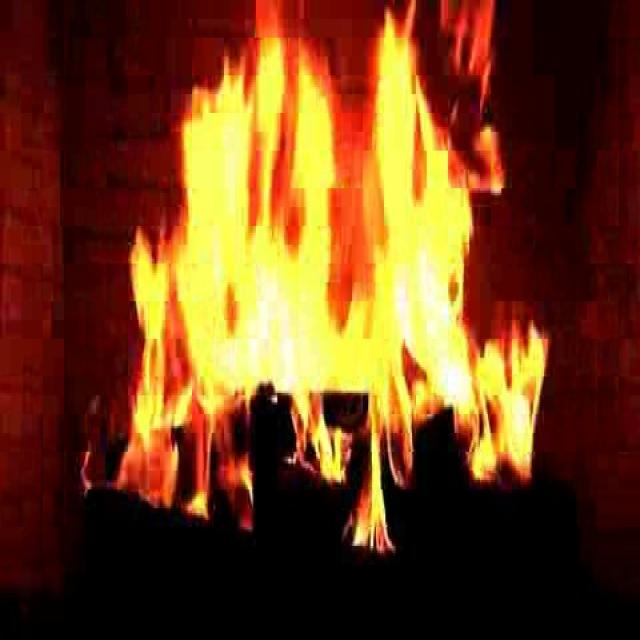fire: (132, 43, 532, 545)
